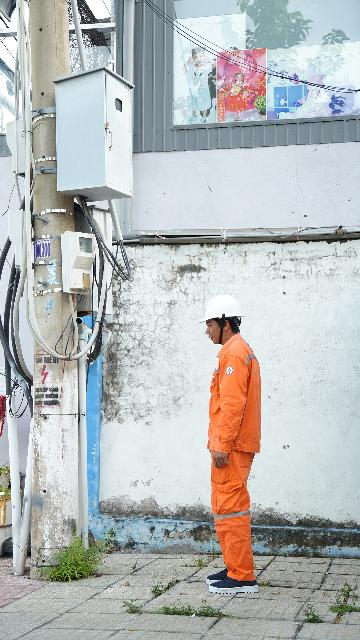helmet: (190, 290, 252, 342)
shoes: (190, 570, 271, 598), (198, 566, 248, 580)
